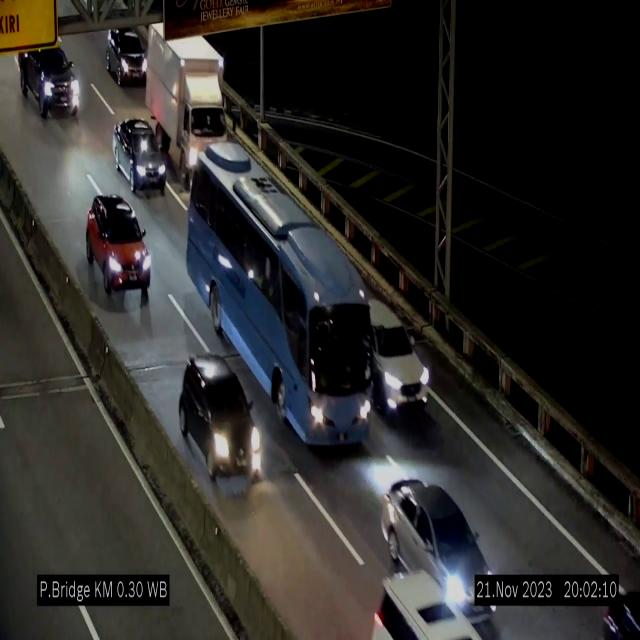Bus: (187, 144, 373, 452)
Car: (384, 483, 502, 625), (178, 345, 266, 487), (361, 568, 487, 640), (368, 286, 432, 414), (84, 192, 154, 296), (19, 39, 81, 118), (113, 114, 168, 201), (107, 27, 151, 89)
Truck: (146, 22, 230, 170)
